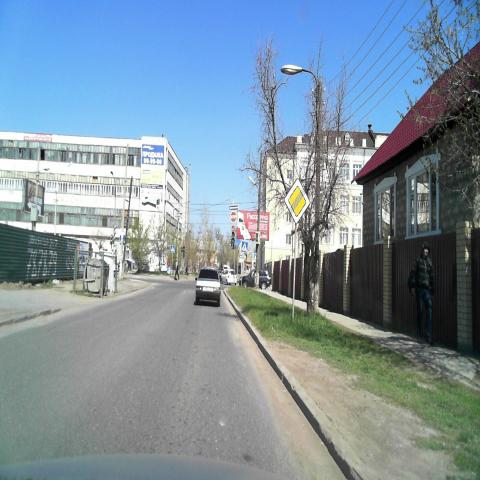2_2: (275, 186, 299, 228)
